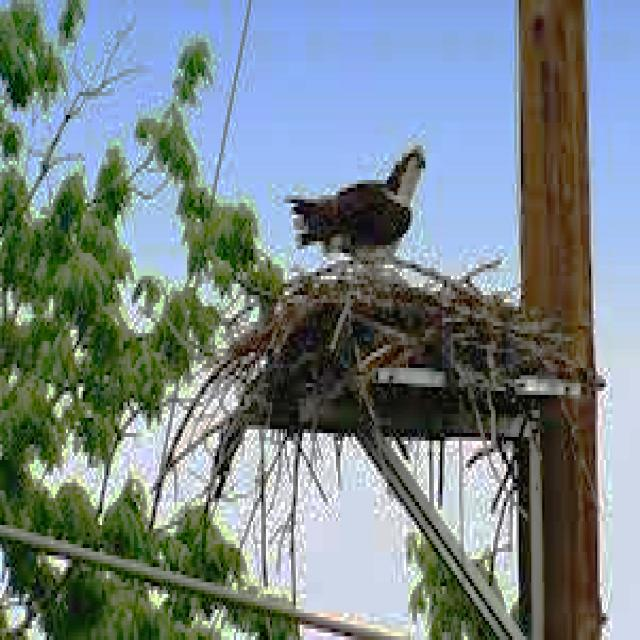obstruction: (203, 261, 587, 525)
poles: (515, 0, 602, 636), (344, 364, 515, 636)
